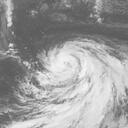cyclone: (23, 37, 118, 117)
